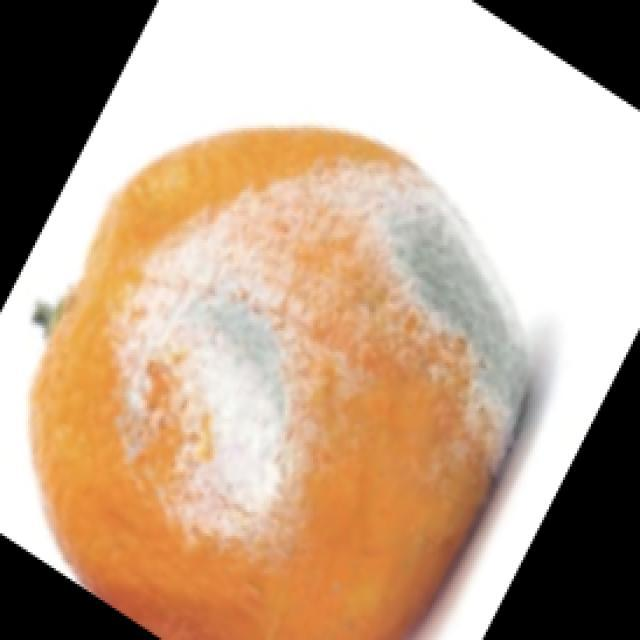sedikit-busuk: (31, 129, 534, 639)
